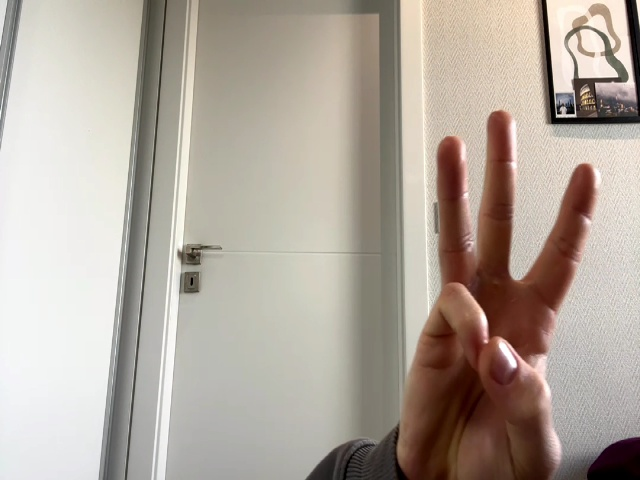W: (397, 111, 602, 472)
